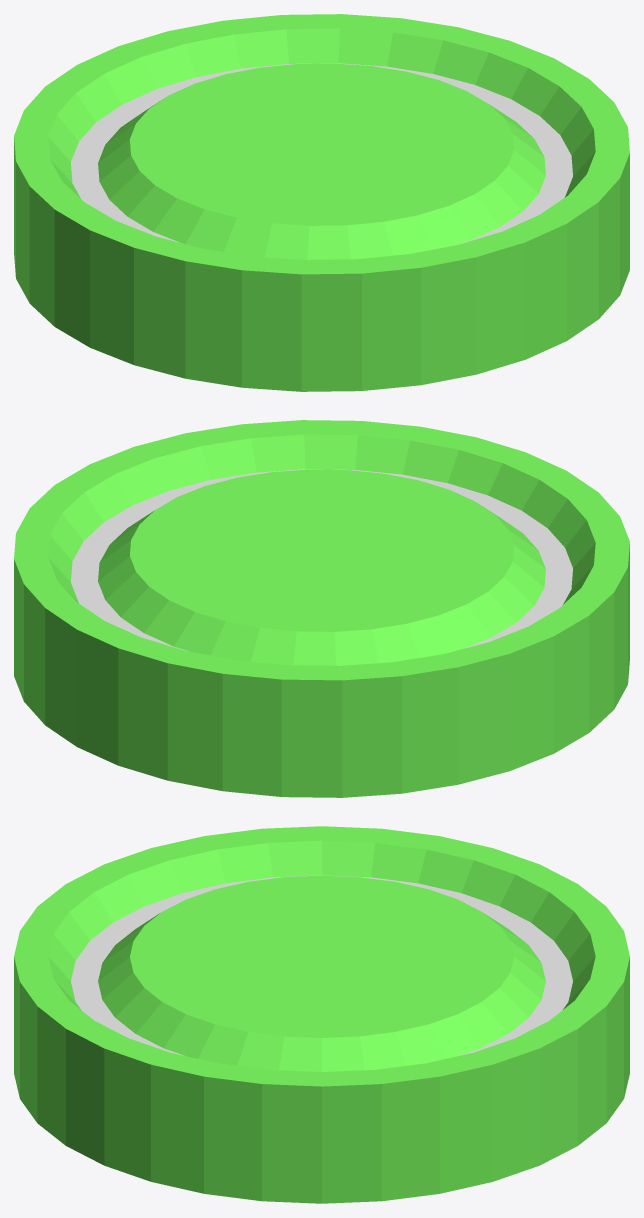
The model's file is Player.fbx.
3 views of the same model, one above another, from view 1: azimuth 30°, elevation 25°; view 2: azimuth 150°, elevation 25°; view 3: azimuth 270°, elevation 25° (orthographic).
Parts seen in each view (by area): view 1: Player; view 2: Player; view 3: Player.
Part boxes in pixels (<box>): Player: <box>14,14,629,391</box>; Player: <box>14,420,629,797</box>; Player: <box>14,826,629,1203</box>.
Size of the model in its own units: 23.73 by 4.98 by 23.73.
